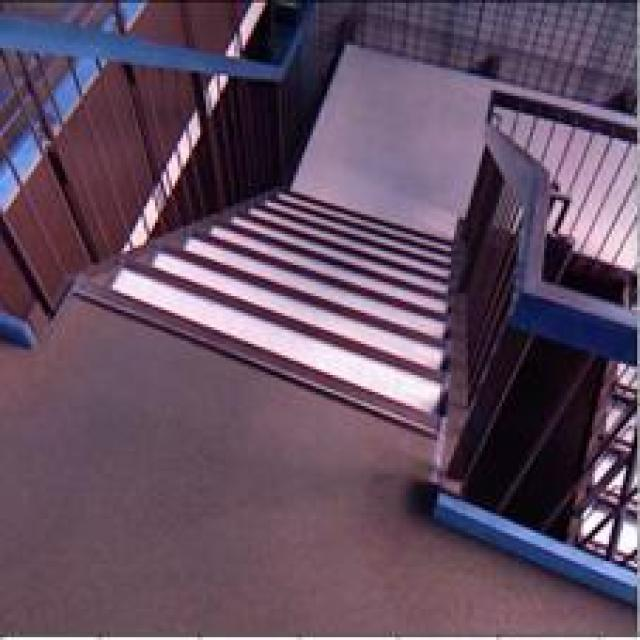downstair: (88, 196, 441, 418)
